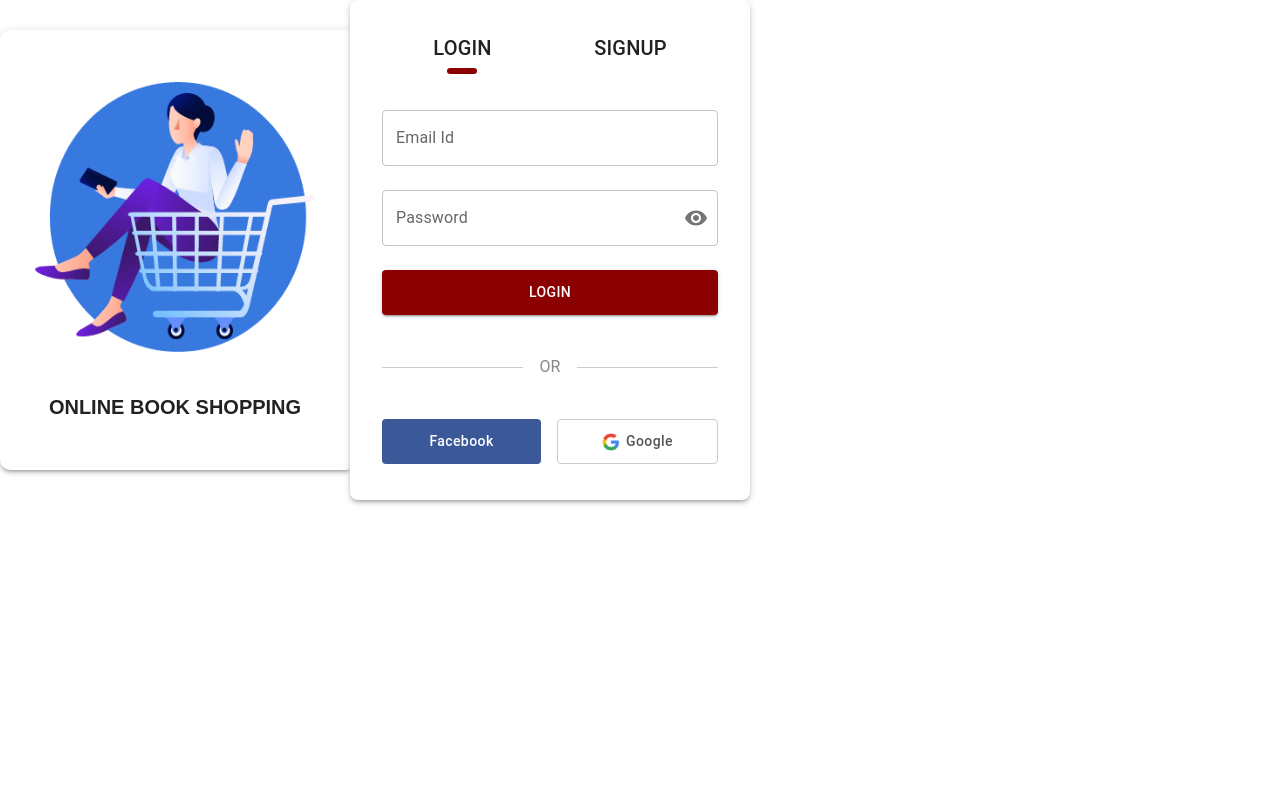
Scenario: AuthCard Component › shows error when mobile number is empty during signup
Switch to signup view
Click the text "SIGNUP" at (630, 48), box [594, 36, 667, 60]
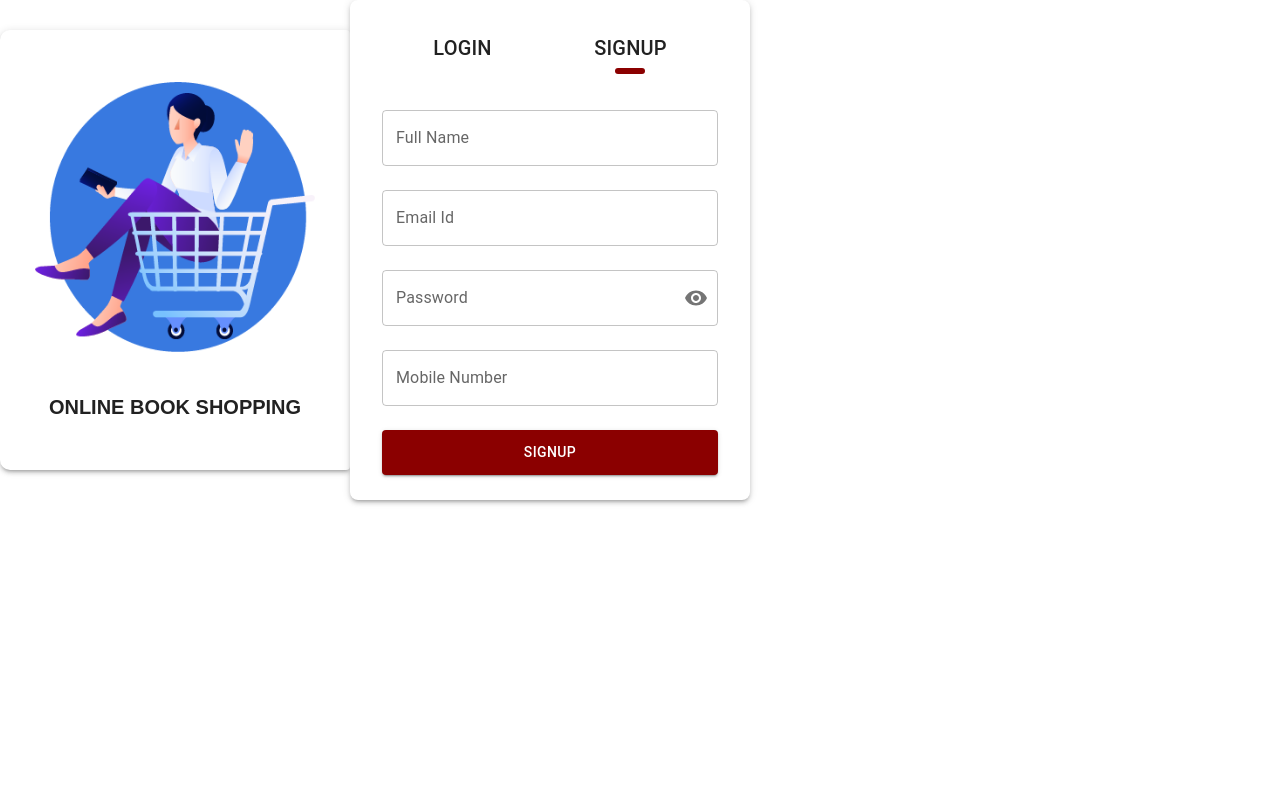
Simulate entering all fields except mobile number
Type "John Doe" into the field labelled "Full Name" at (550, 138), box [382, 110, 718, 166]
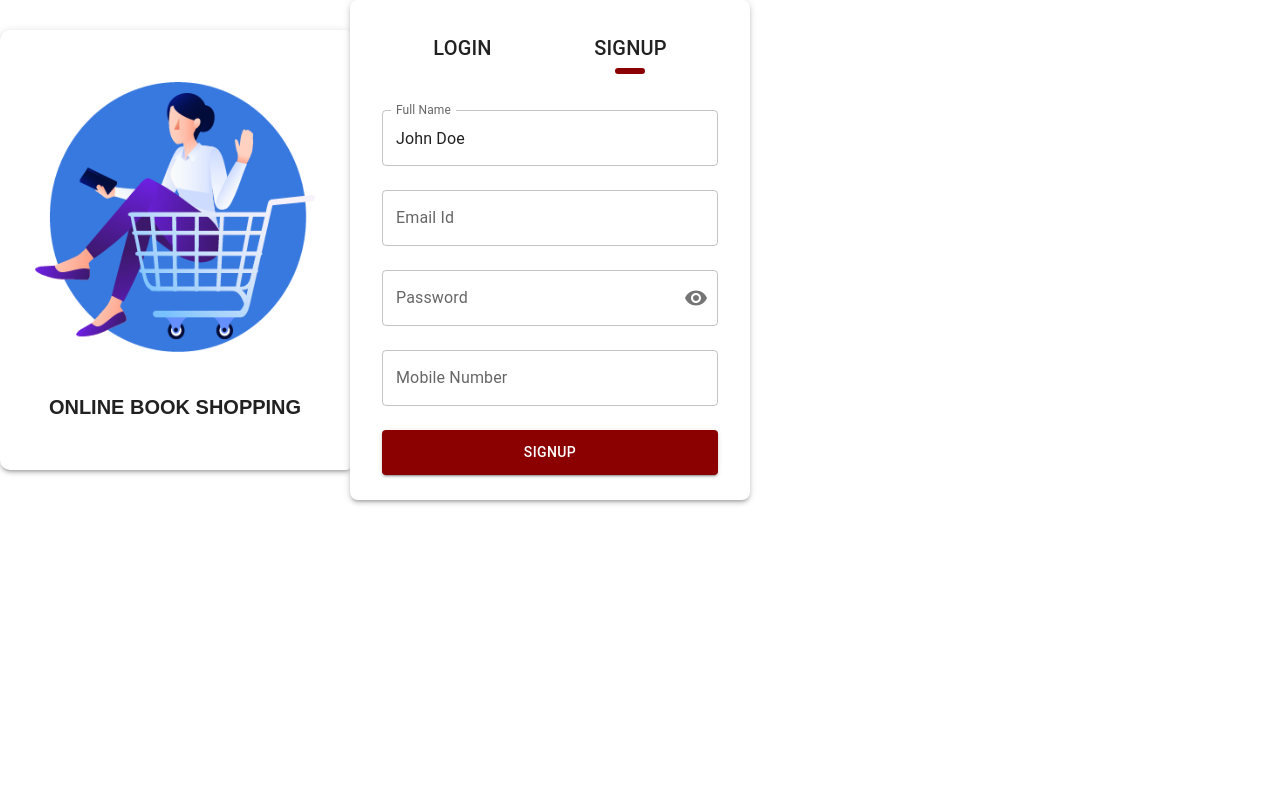
Type "test@example.com" into the field labelled "Email Id" at (550, 218), box [382, 190, 718, 246]
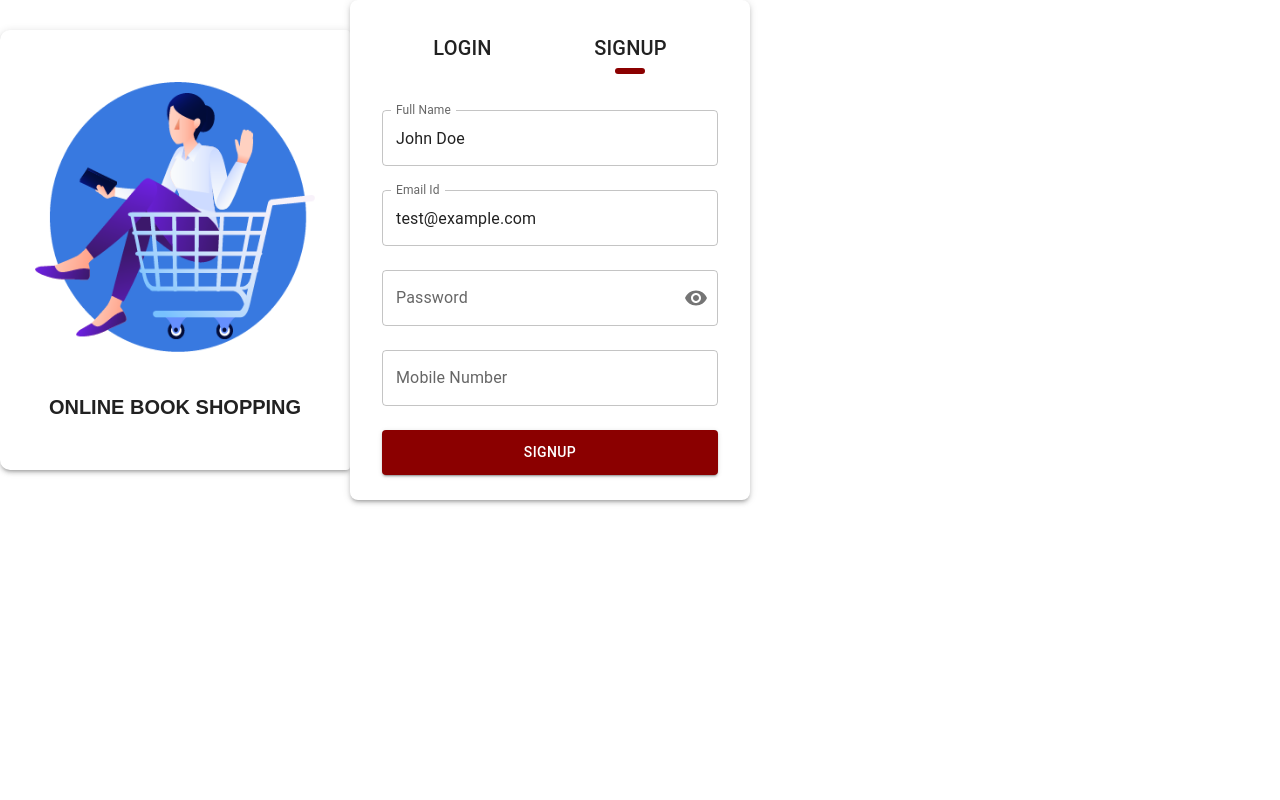
Type "password123" into the password field labelled "Password" at (525, 298), box [382, 270, 668, 326]
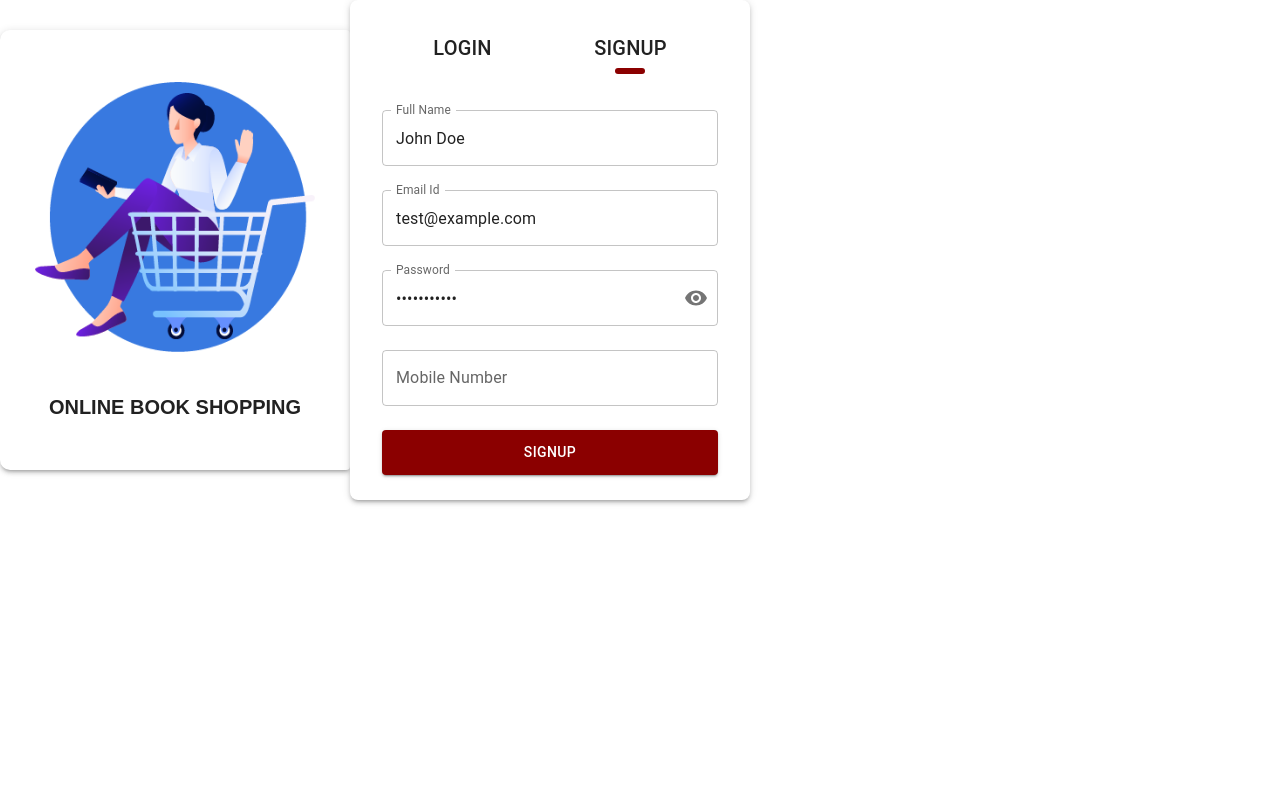
Simulate clicking the Signup button
Click the button "Signup" at (550, 452), box [382, 430, 718, 475]
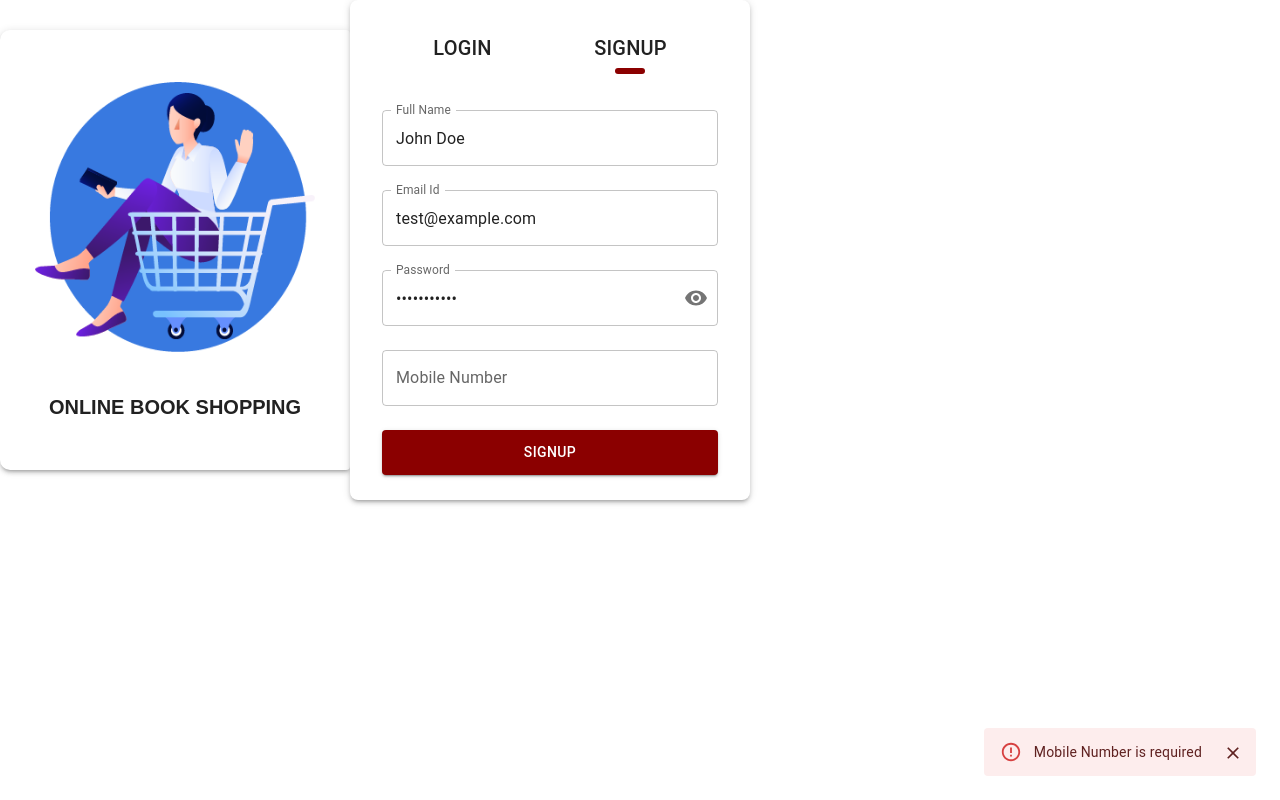
Result: the text "Mobile Number is required" is shown at [1034, 744, 1202, 760]
